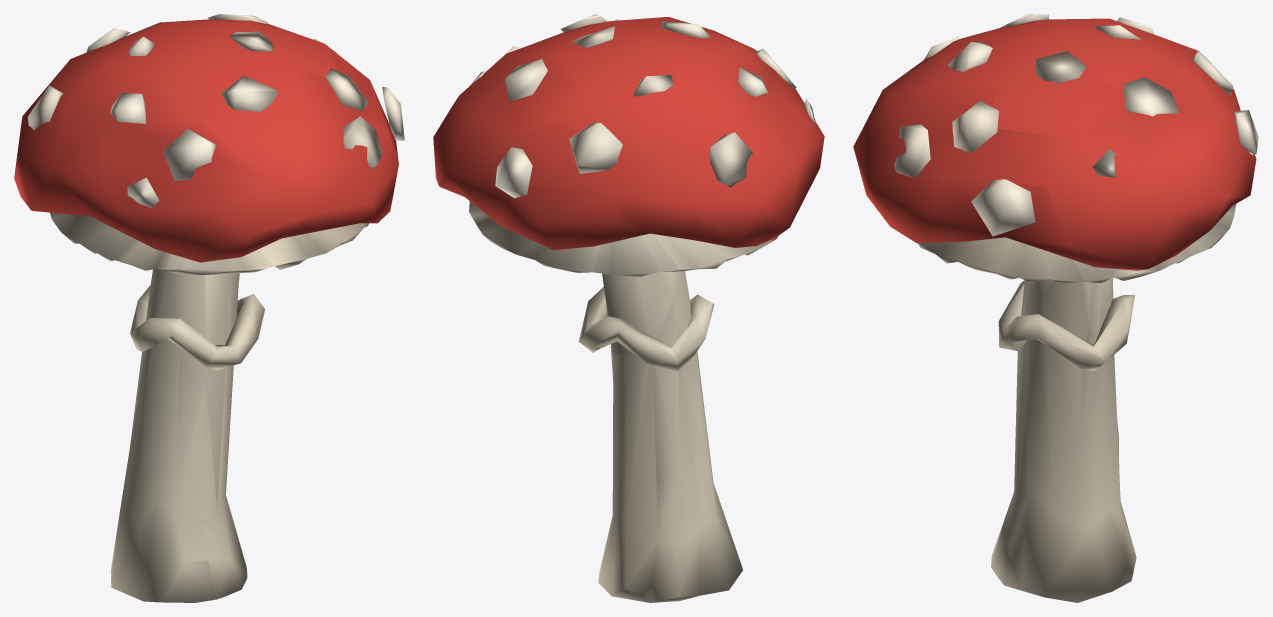
File: glade_mushroom_red_lod2.glb
3 views of the same model, side by side, from view 1: azimuth 30°, elevation 25°; view 2: azimuth 150°, elevation 25°; view 3: azimuth 270°, elevation 25° (orthographic). The views are drawn at different scales.
Visible parts, largest first — view 1: glade_mushroom_red.001; view 2: glade_mushroom_red.001; view 3: glade_mushroom_red.001.
Boxes of the visible parts, box(x1,y1,x2,y2) form: glade_mushroom_red.001: box(14, 14, 404, 602); glade_mushroom_red.001: box(433, 14, 824, 602); glade_mushroom_red.001: box(853, 14, 1258, 602).
Bounding box in the file's own units: 14.65 × 21.95 × 14.72.
